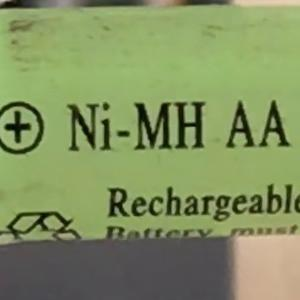keyword: (57, 92, 212, 161)
